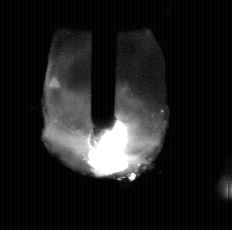arame: (91, 0, 116, 135)
poca: (45, 0, 169, 230)
